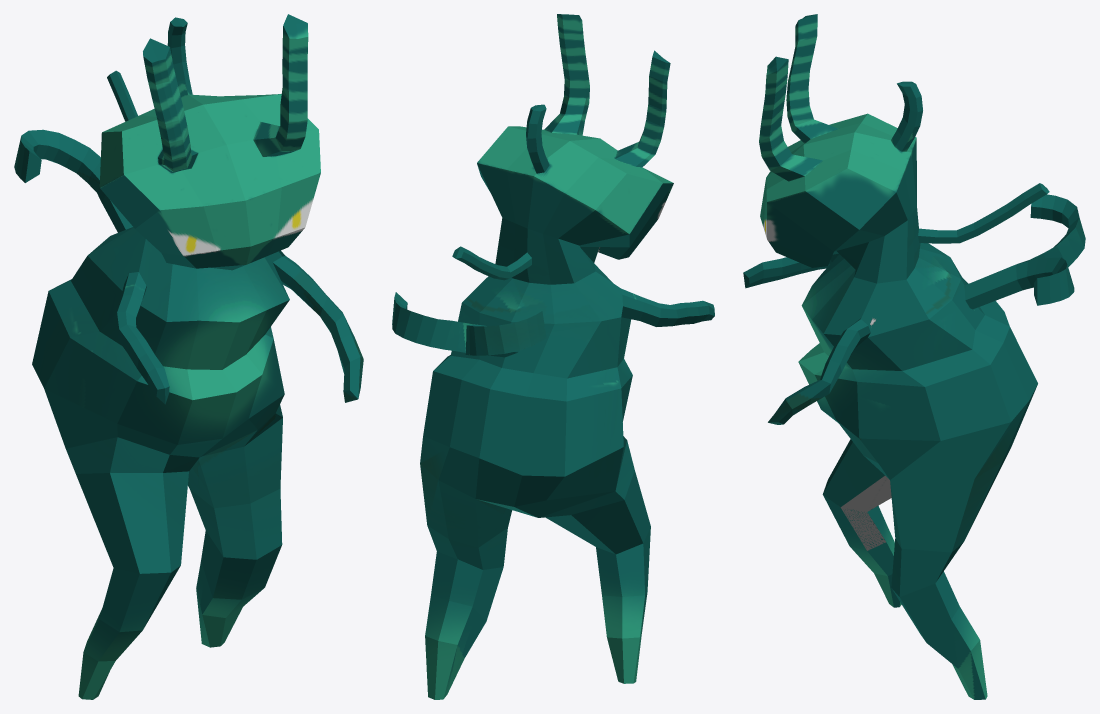
File: monstruo1_caminar_1.obj
3 renders of one model, left to right at view 1: azimuth 30°, elevation 25°; view 2: azimuth 150°, elevation 25°; view 3: azimuth 270°, elevation 25°, orthographic. The views are drawn at different scales.
Parts seen in each view (by area): view 1: Monstruo_basico; view 2: Monstruo_basico; view 3: Monstruo_basico.
Boxes of the visible parts, x1,y1,x2,y2 form: Monstruo_basico: (14,14,363,699); Monstruo_basico: (392,14,714,699); Monstruo_basico: (743,14,1085,699).
Bounding box in the file's own units: 0.3561 × 1.03 × 0.5129.
